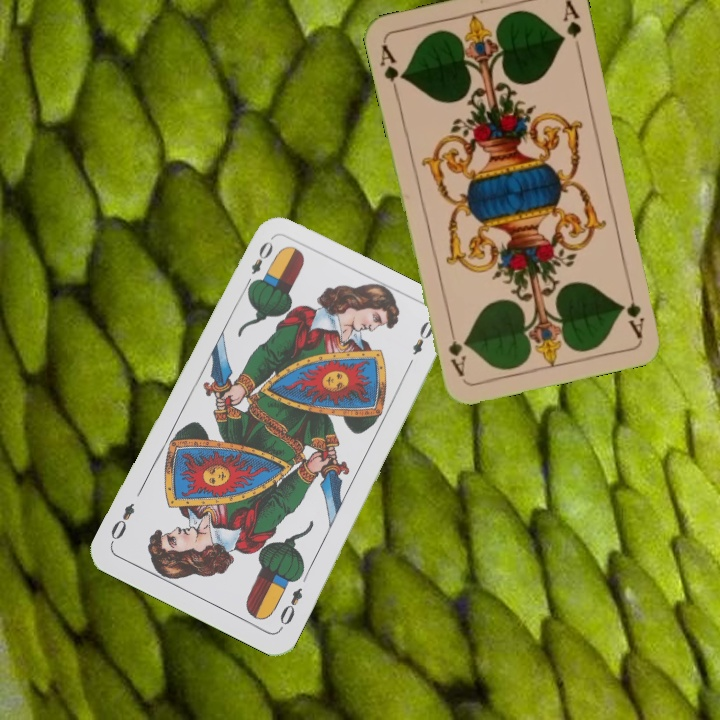EO: (241, 237, 276, 291), (275, 583, 305, 628)
GA: (376, 40, 408, 98), (622, 281, 647, 340)
